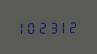one: (17, 20, 26, 34), (58, 19, 67, 33)
three: (48, 20, 57, 33)
two: (38, 20, 47, 34), (68, 19, 77, 33)
zero: (27, 20, 36, 34)
